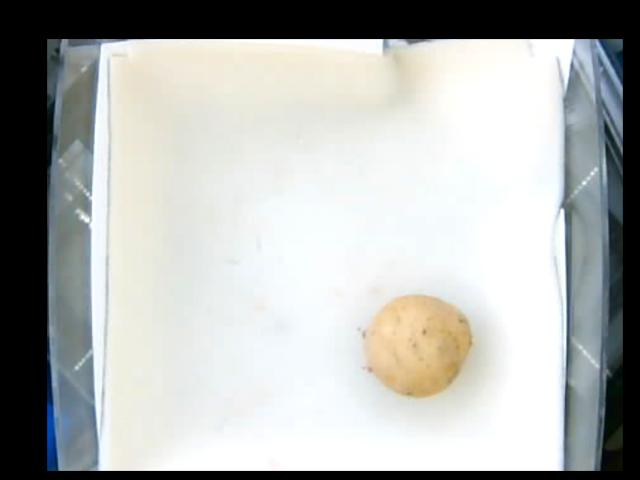Potato: (361, 291, 469, 398)
